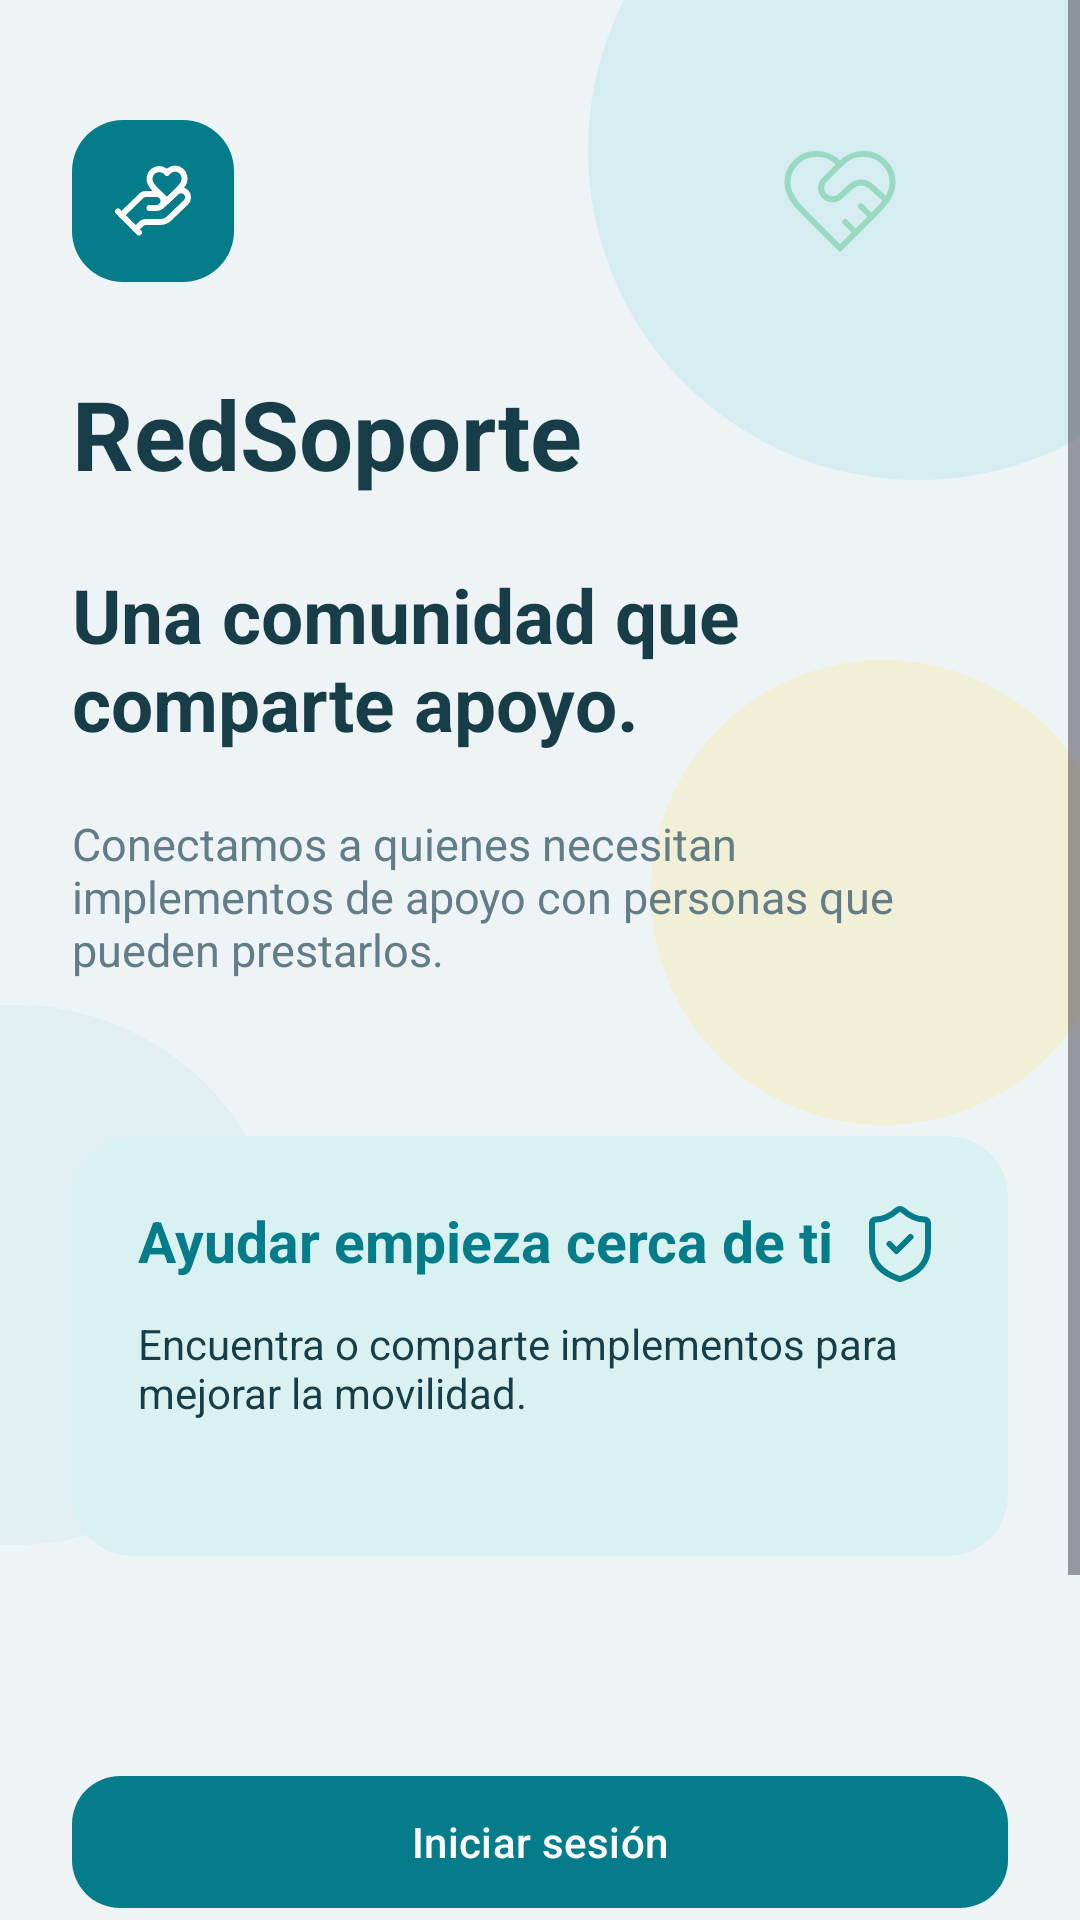

Named icons in this screenshot (1080 x 1920) and their bounding boxes, (x1, y1, x2, y2):
welcome hand heart: (72, 120, 234, 282)
welcome heart handshake: (784, 151, 896, 251)
welcome shield check: (869, 1206, 931, 1282)
